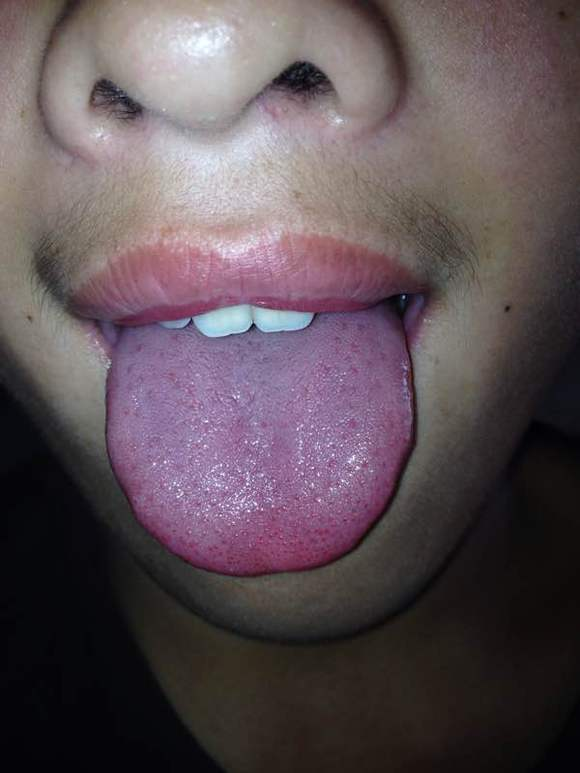hongdianshe: (344, 414, 357, 430)
zishe: (105, 303, 417, 578)
